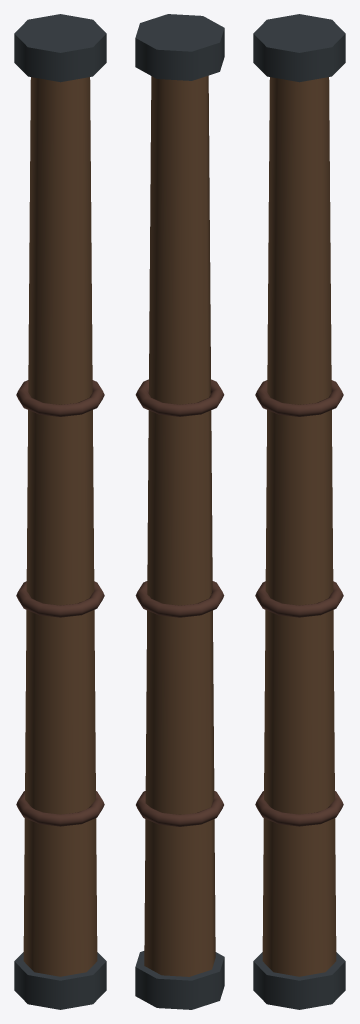
Rendered from quarterstaff.glb.
The picture shows the model from 3 angles, left to right: view 1: azimuth 90°, elevation 25°; view 2: azimuth 150°, elevation 25°; view 3: azimuth 270°, elevation 25°; orthographic projection.
Parts seen in each view (by area): view 1: quarterstaff-shaft, quarterstaff-cap-top, quarterstaff-grip-wrap (×3), quarterstaff-cap-bottom; view 2: quarterstaff-shaft, quarterstaff-cap-top, quarterstaff-grip-wrap (×3), quarterstaff-cap-bottom; view 3: quarterstaff-shaft, quarterstaff-cap-top, quarterstaff-grip-wrap (×3), quarterstaff-cap-bottom.
Part boxes in pixels (left/top/right/bottom): quarterstaff-shaft: left=23, top=77, right=97, bottom=976; quarterstaff-cap-top: left=14, top=14, right=106, bottom=82; quarterstaff-grip-wrap (×3): left=16, top=380, right=104, bottom=826; quarterstaff-cap-bottom: left=14, top=952, right=106, bottom=1009; quarterstaff-shaft: left=144, top=75, right=215, bottom=976; quarterstaff-cap-top: left=135, top=14, right=224, bottom=80; quarterstaff-grip-wrap (×3): left=135, top=379, right=224, bottom=826; quarterstaff-cap-bottom: left=135, top=951, right=224, bottom=1009; quarterstaff-shaft: left=262, top=77, right=336, bottom=976; quarterstaff-cap-top: left=253, top=14, right=345, bottom=82; quarterstaff-grip-wrap (×3): left=255, top=380, right=343, bottom=826; quarterstaff-cap-bottom: left=253, top=952, right=345, bottom=1009.
Size of the model in its own units: 0.1 by 1.15 by 0.1.
